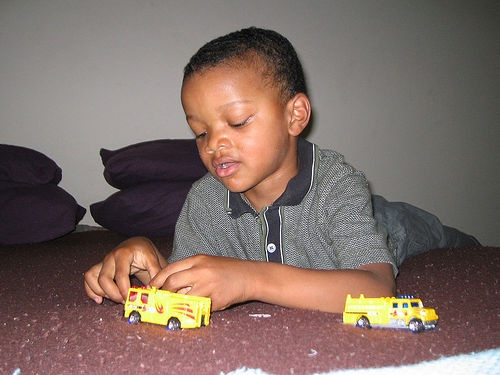head: (181, 27, 313, 194)
person: (66, 27, 432, 313)
